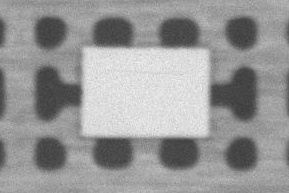DIE_CRACK: (162, 47, 274, 49)
